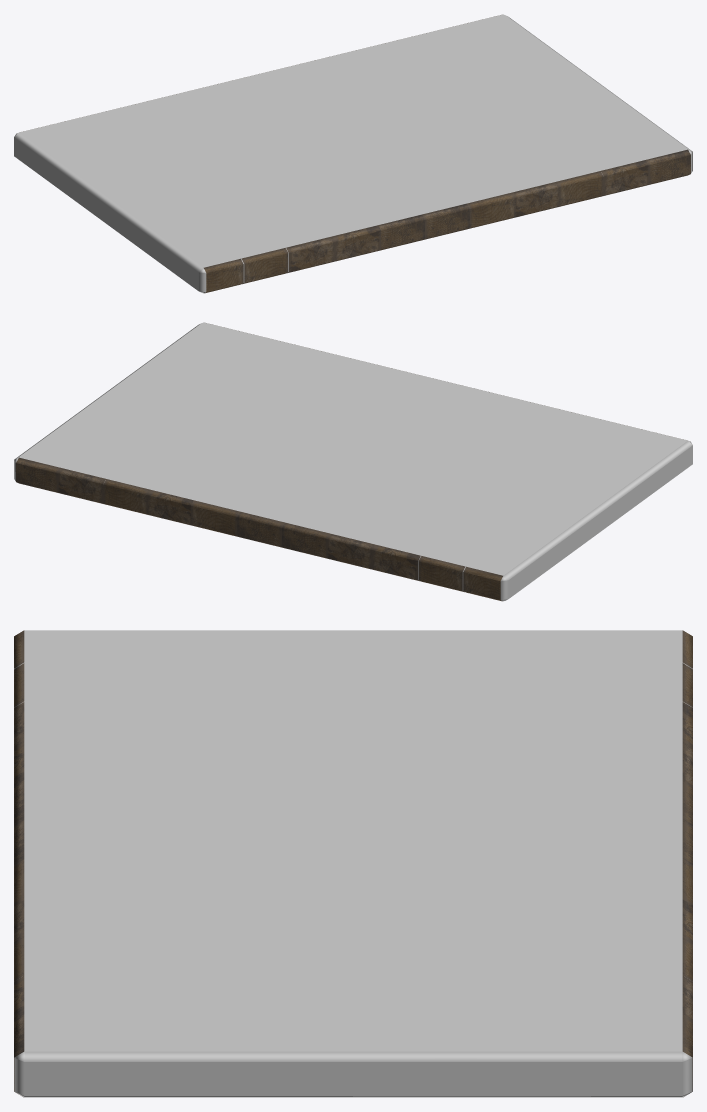
Rendered from SM_Floor_b_200x300x15_01.fbx.
3 views of the same model, one above another, from view 1: azimuth 30°, elevation 25°; view 2: azimuth 150°, elevation 25°; view 3: azimuth 270°, elevation 25° (orthographic). The views are drawn at different scales.
Visible parts, largest first — view 1: SM_Floor_b_200x300x15_01_LOD0; view 2: SM_Floor_b_200x300x15_01_LOD0; view 3: SM_Floor_b_200x300x15_01_LOD0.
Part boxes in pixels (x1,y1,x2,y2): SM_Floor_b_200x300x15_01_LOD0: (14, 14, 692, 293); SM_Floor_b_200x300x15_01_LOD0: (14, 322, 692, 601); SM_Floor_b_200x300x15_01_LOD0: (14, 630, 692, 1097).
Size of the model in its own units: 300 by 200 by 15.
